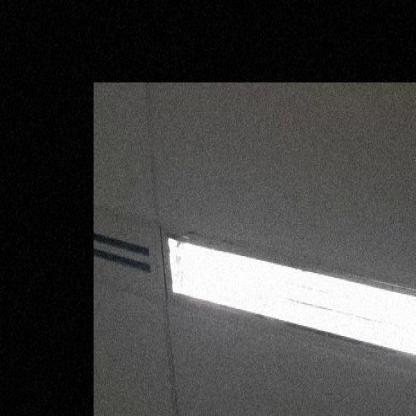light_on: (158, 208, 416, 395)
